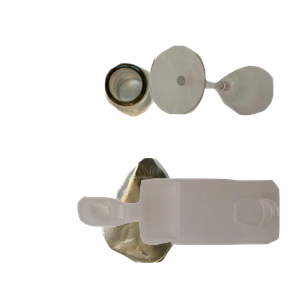glass: (147, 43, 300, 151)
metal: (102, 60, 252, 169)
plastic: (75, 176, 300, 300)
trash: (99, 155, 268, 300)
